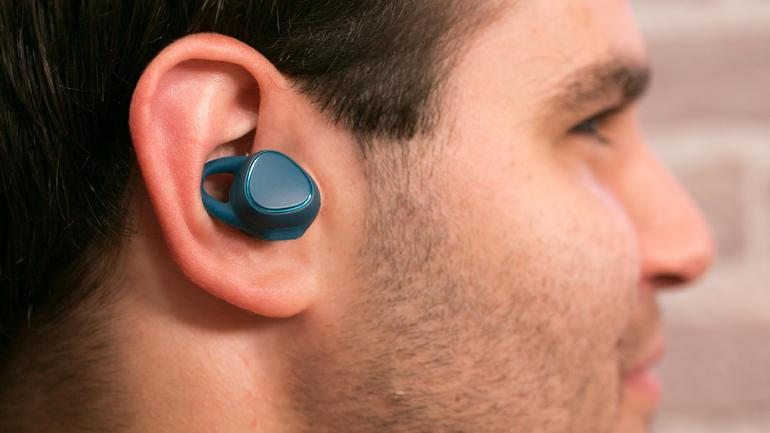earphone: (193, 136, 339, 247)
